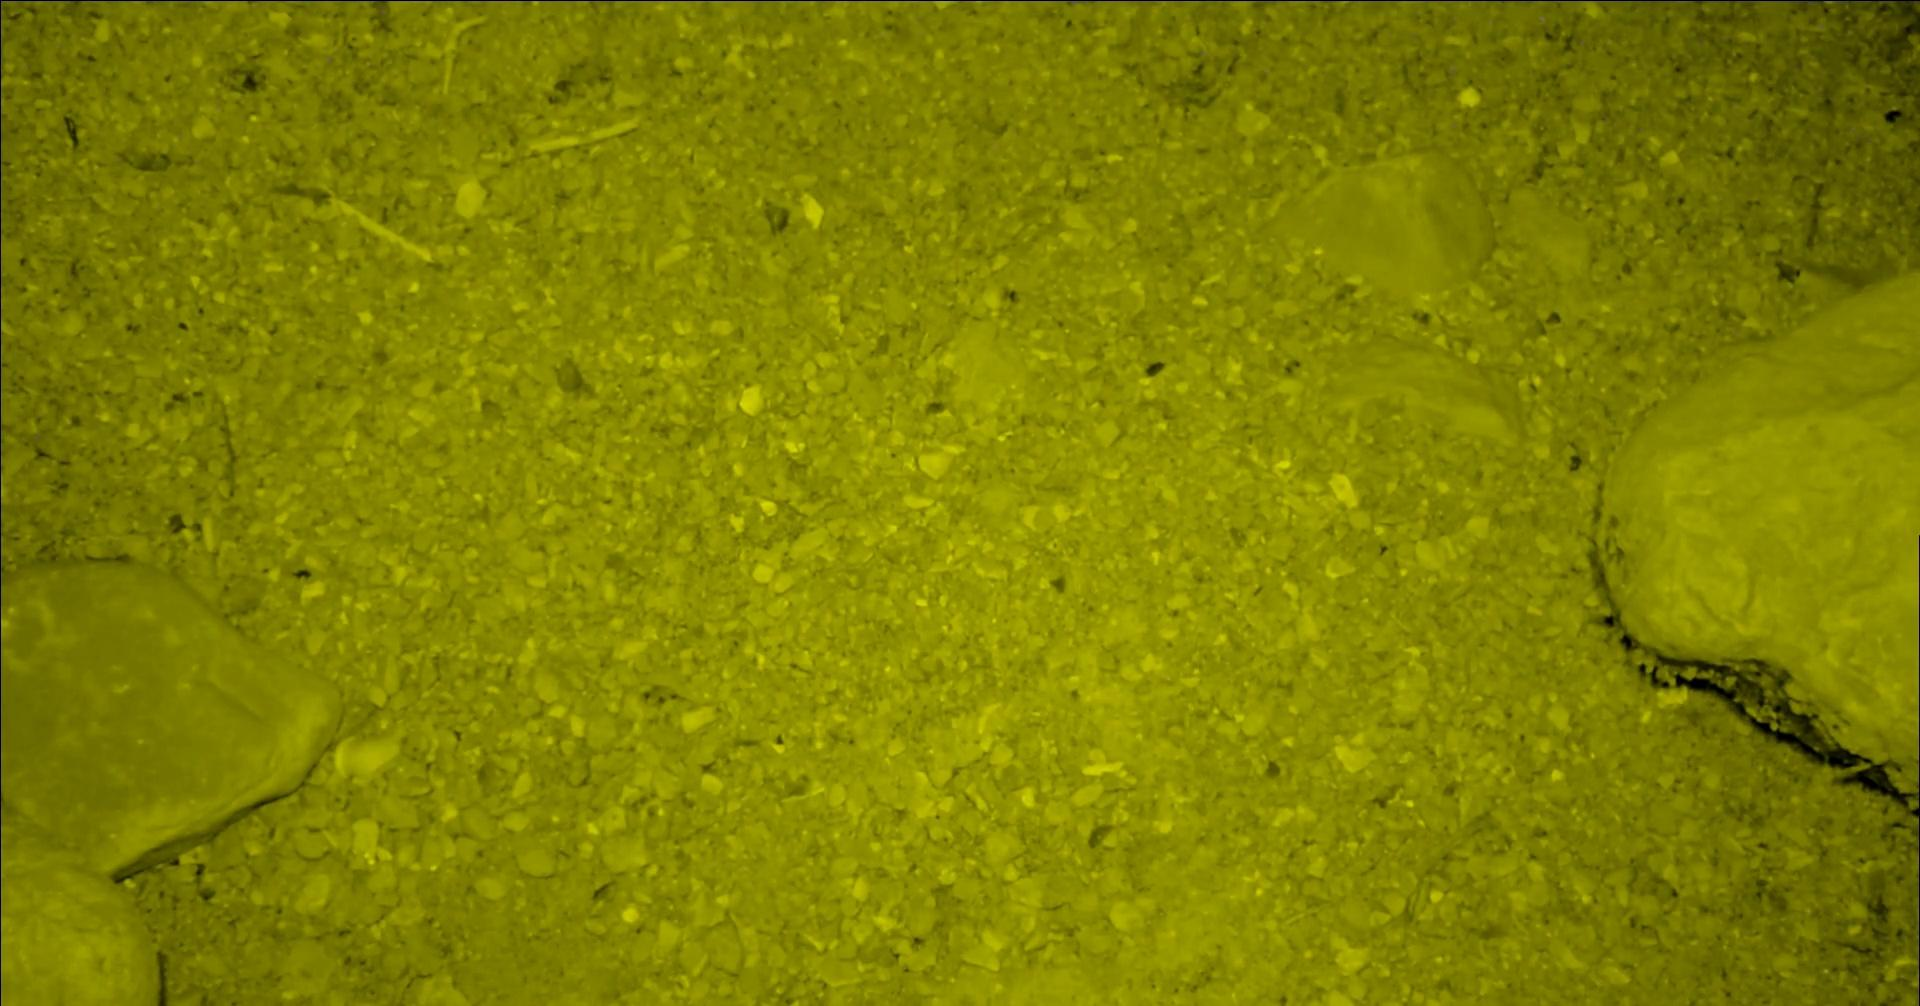ant: (0, 0, 36, 78), (1594, 0, 1825, 4), (1470, 0, 1579, 1), (1917, 919, 1919, 972), (41, 0, 127, 1), (0, 111, 1, 191), (1831, 0, 1893, 1), (143, 0, 201, 1), (0, 554, 1, 605)
